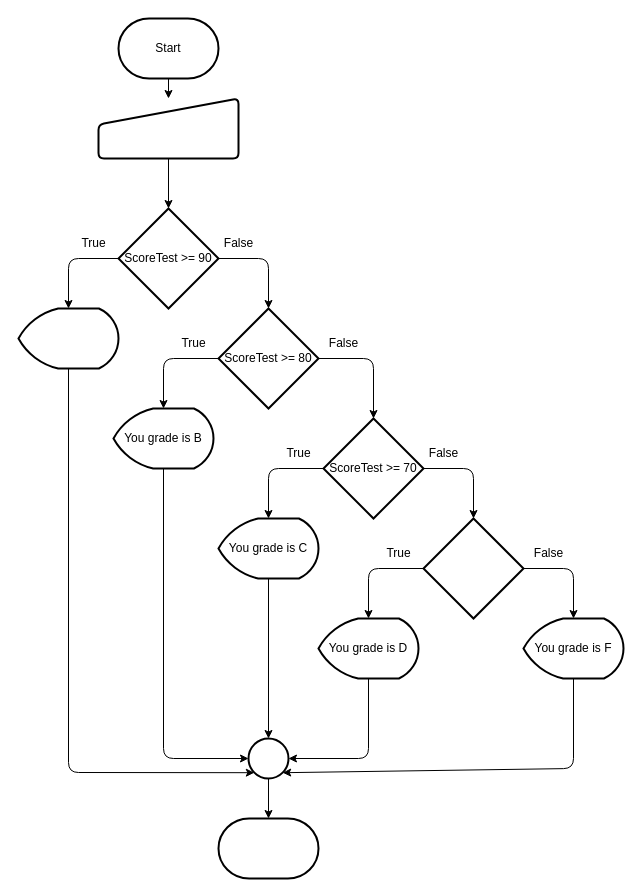
This 641x896 diagram has some shape labels left out. The centre of each missing label's shape, as x and y in pixels:
End: point (268, 848)
Enter your test score :: point (168, 128)
ScoreTest >= 60: point (473, 568)
You grade is A: point (68, 338)
